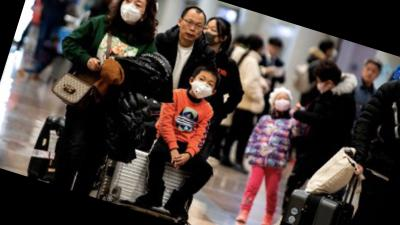with_mask: (187, 71, 216, 102), (199, 22, 223, 49), (273, 92, 294, 115), (313, 76, 333, 96)
without_mask: (177, 13, 205, 44), (360, 62, 381, 85)
